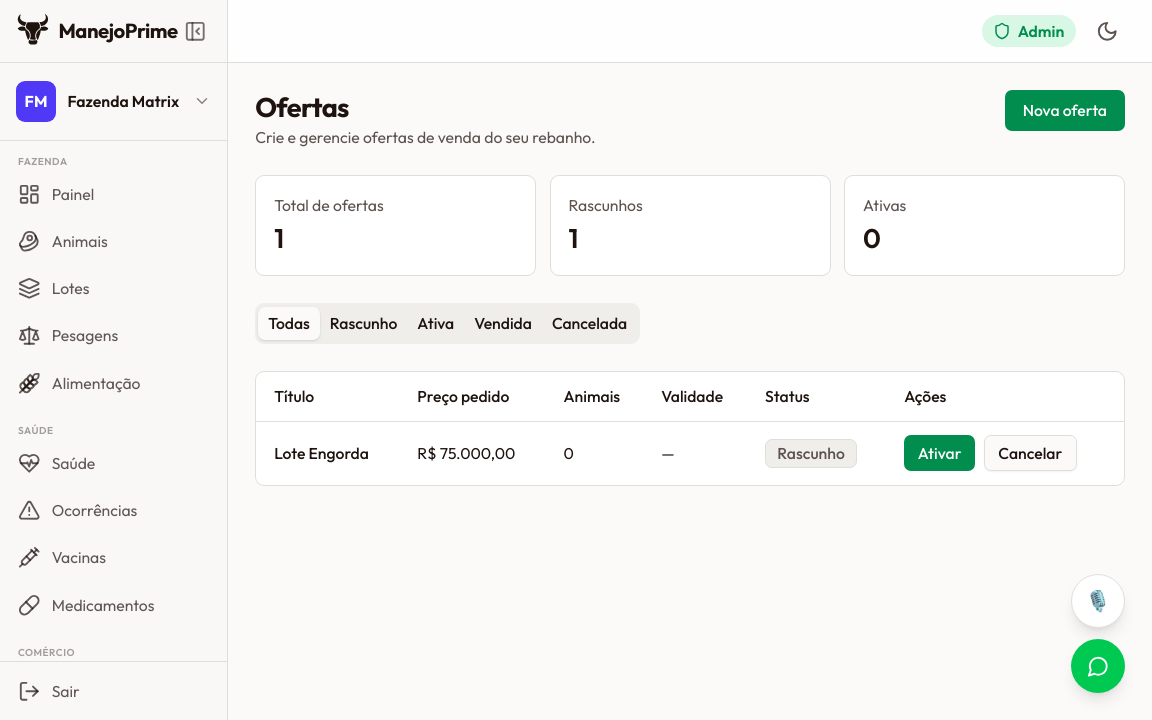
offers page migration › admin can cancel a draft offer
Click the button "Cancelar" at x=1030, y=454, box [984,436,1077,472]
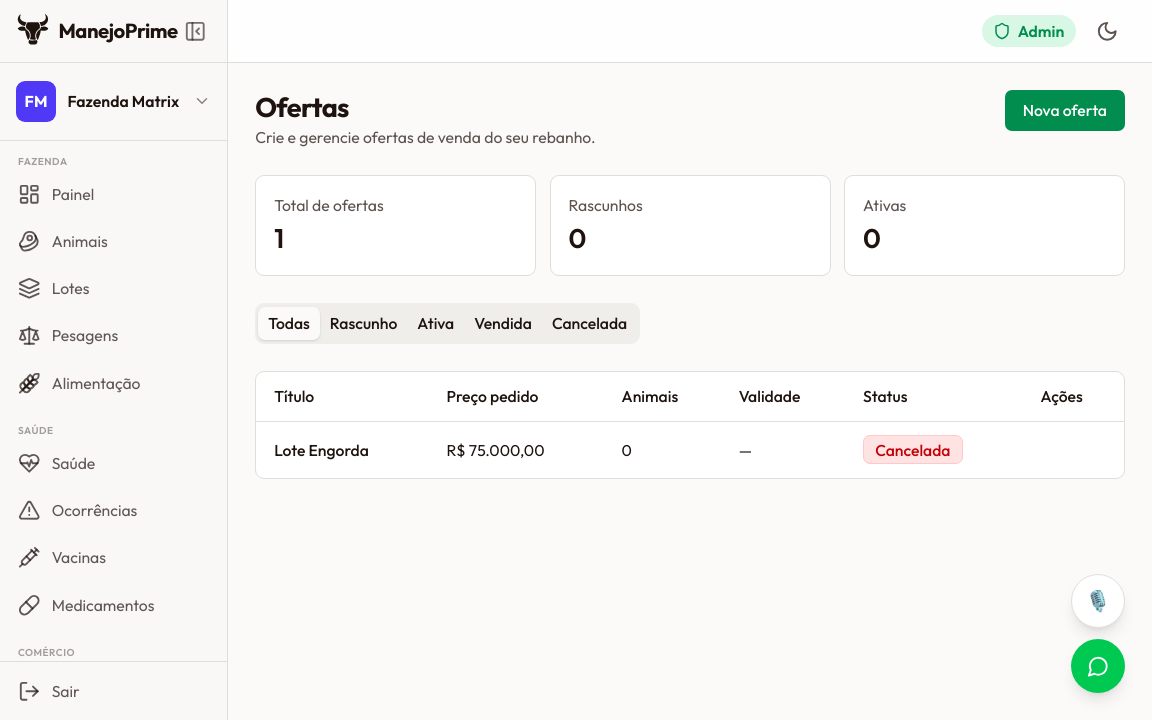
Expected: the button "Ativar" is gone
